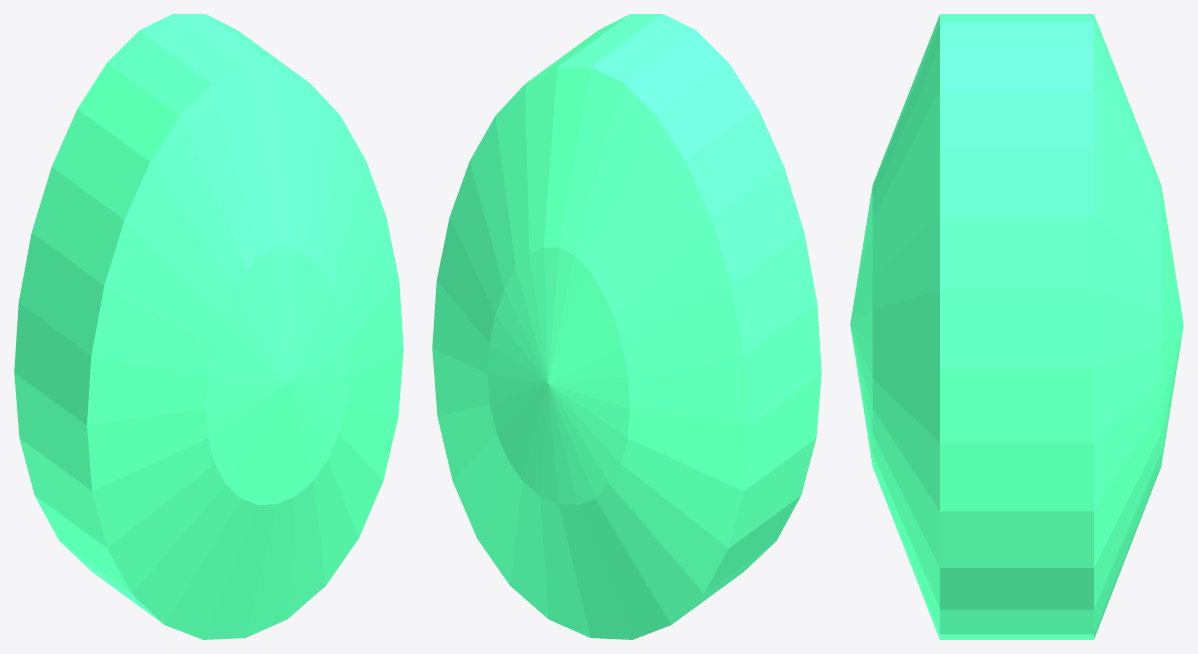
The model's file is gem_green.glb.
3 views of the same model, side by side, from view 1: azimuth 30°, elevation 25°; view 2: azimuth 150°, elevation 25°; view 3: azimuth 270°, elevation 25° (orthographic). The views are drawn at different scales.
Size of the model in its own units: 0.604 by 1.04 by 0.52.
